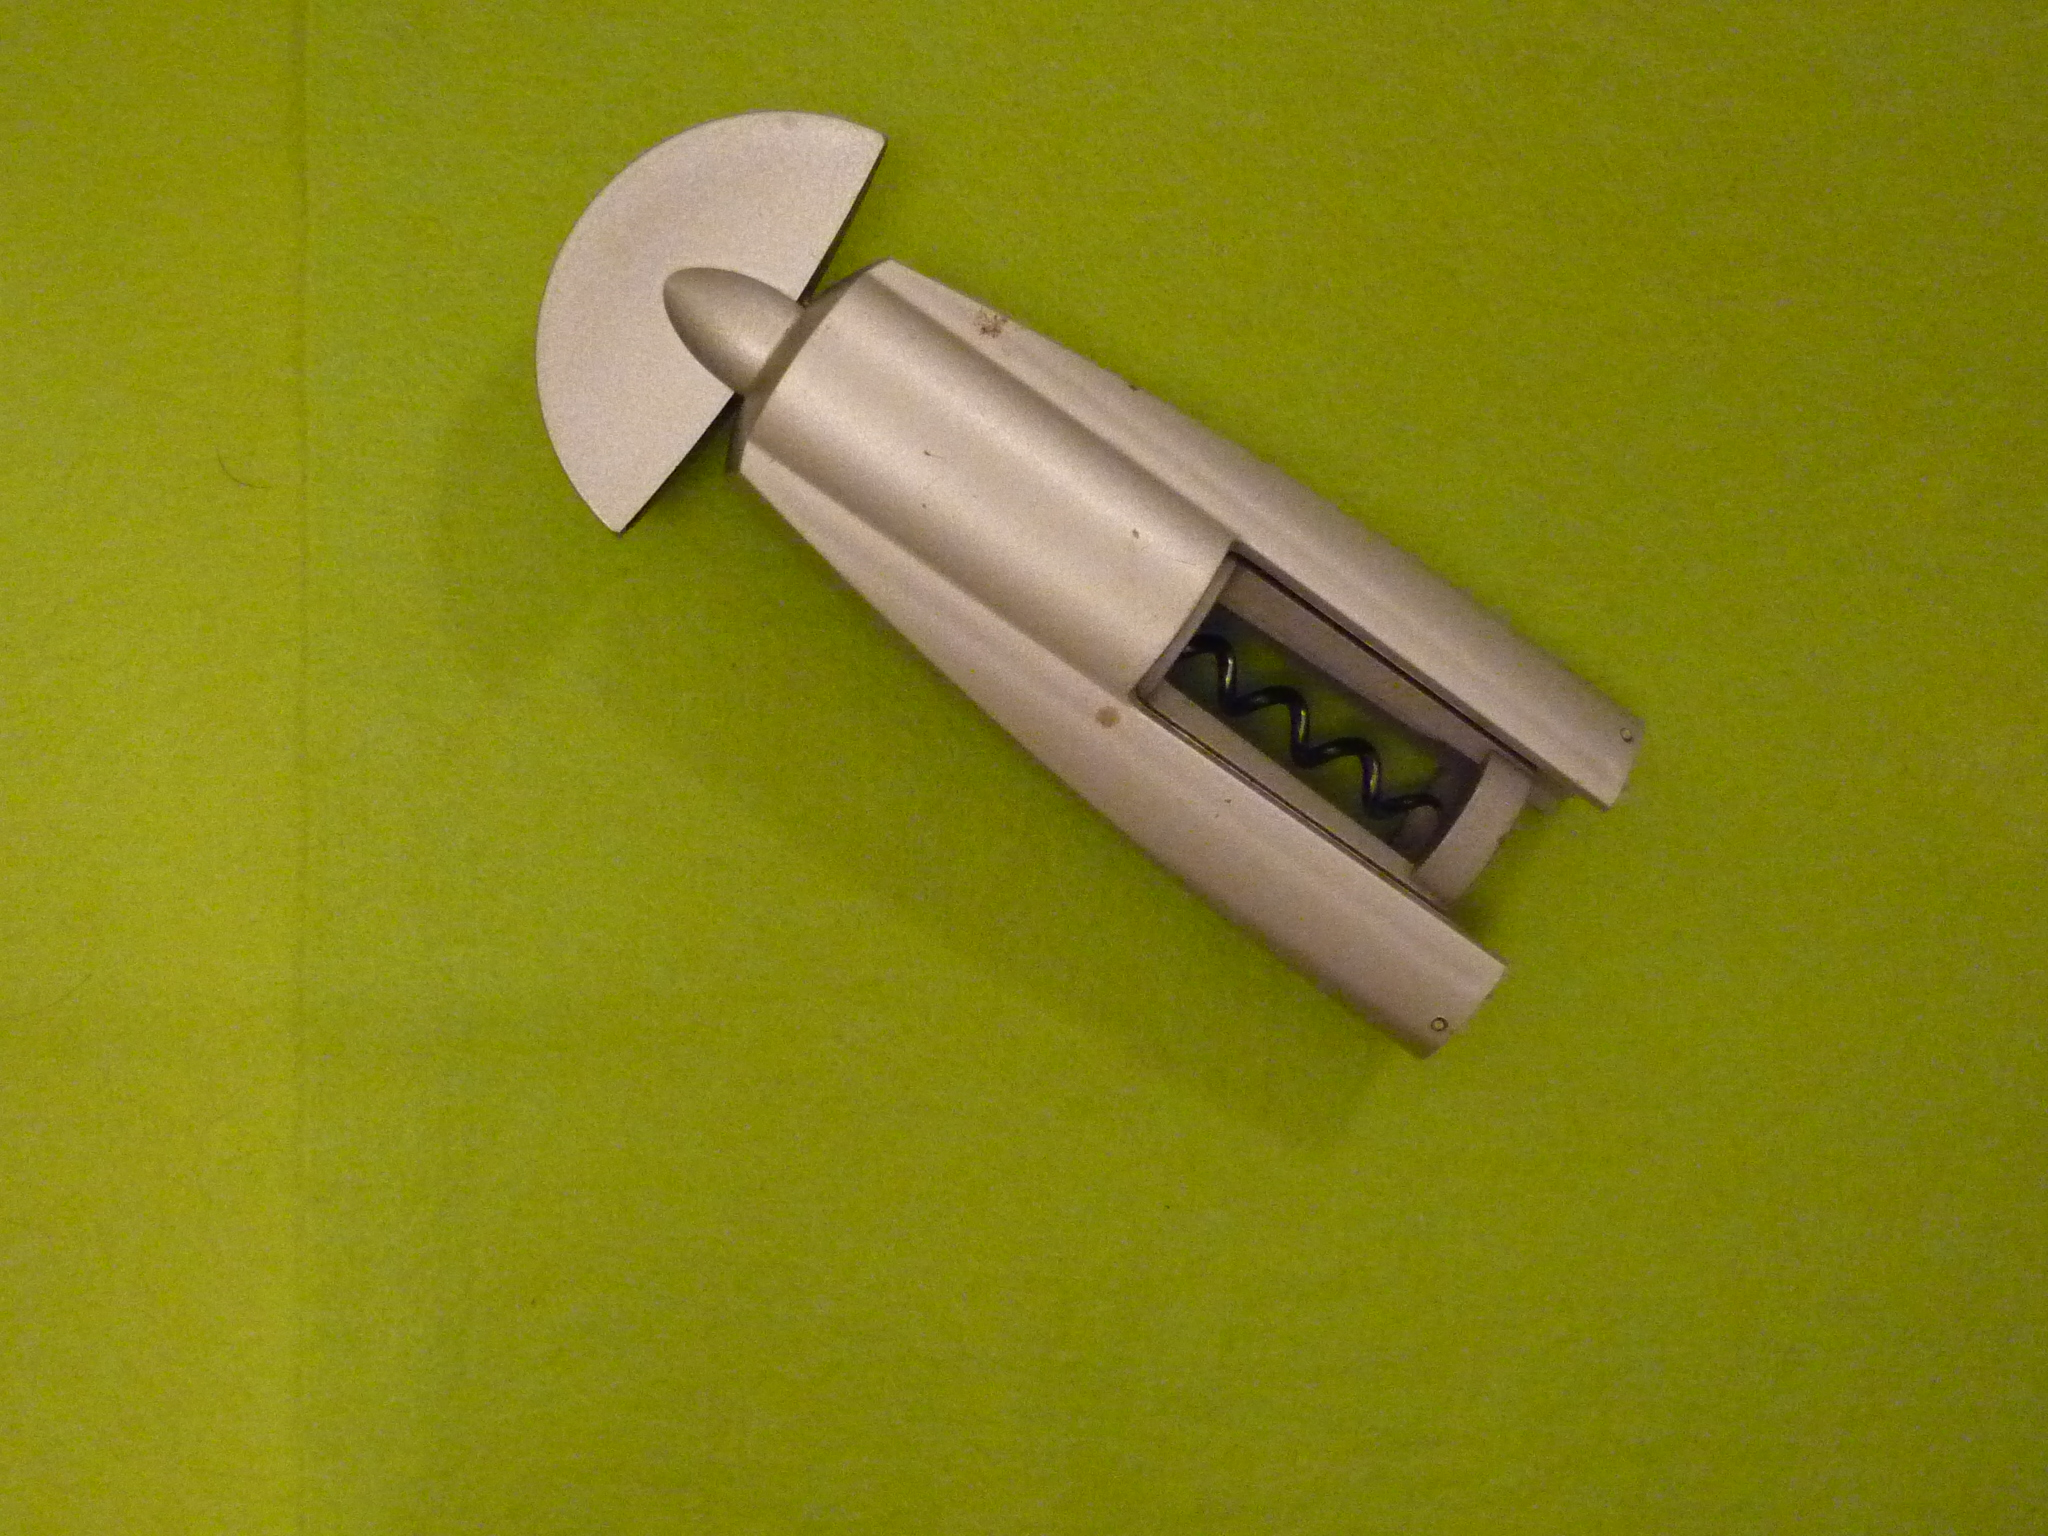bottleopener: (532, 110, 1648, 1063)
